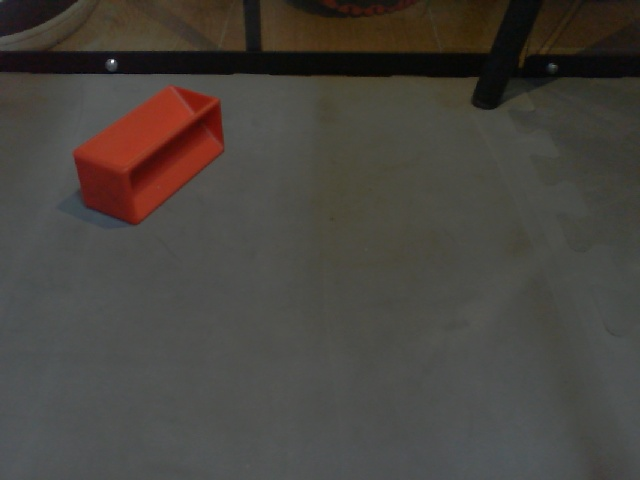RedSample: (71, 81, 228, 230)
